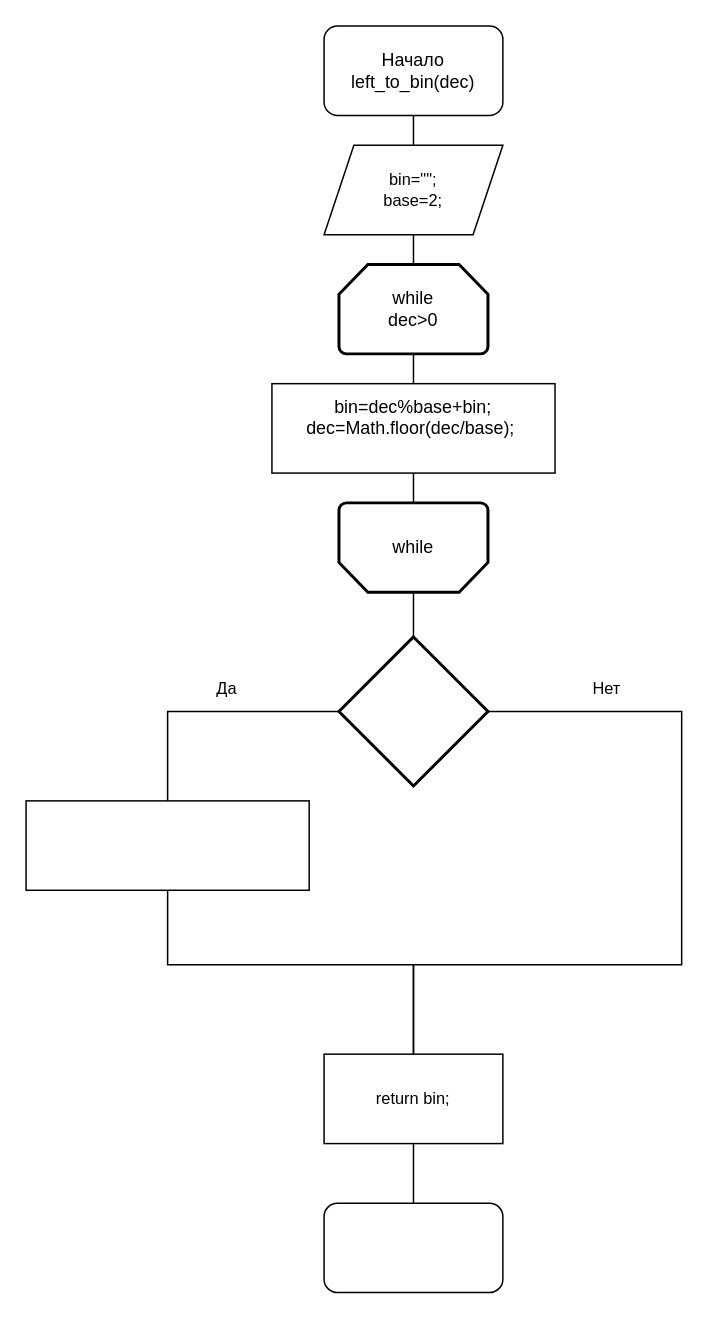
The diagram is 709 pixels wide and 1319 high, and some of its shapes have lost their labels. Here are the shapes that lost their labels. From the top down, the box of each, then its label:
(337, 635, 489, 787): bin==""
(25, 799, 309, 890): return 0;
(323, 1202, 503, 1293): Конец left_to_bin(dec)
